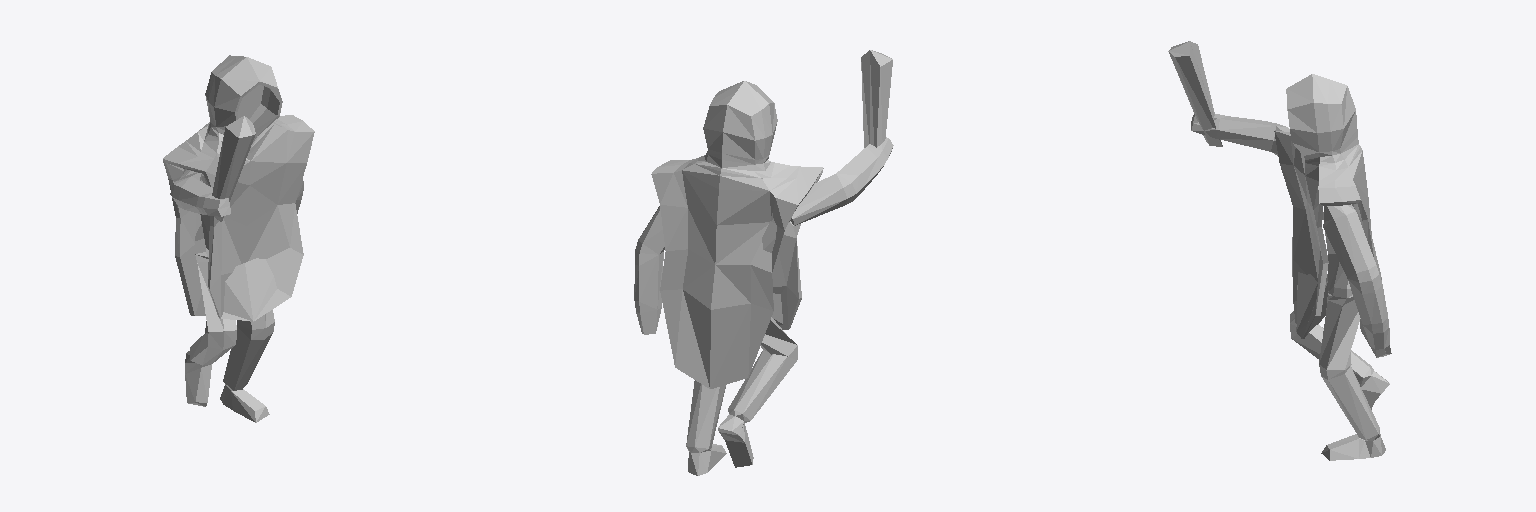
Rendered from Dude_Walk4.obj.
3 views of the same model, side by side, from view 1: azimuth 30°, elevation 25°; view 2: azimuth 150°, elevation 25°; view 3: azimuth 270°, elevation 25° (orthographic).
Parts seen in each view (by area): view 1: Dude.HOOD_Cube.001, Dude.BOD_Cube, Cube_Cube.002; view 2: Dude.HOOD_Cube.001, Dude.BOD_Cube, Cube_Cube.002; view 3: Dude.BOD_Cube, Dude.HOOD_Cube.001, Cube_Cube.002.
Part boxes in pixels (x1,y1,x2,y2): Dude.HOOD_Cube.001: (163,55,314,321); Dude.BOD_Cube: (170,169,303,422); Cube_Cube.002: (212,116,255,221); Dude.HOOD_Cube.001: (651,81,823,388); Dude.BOD_Cube: (634,137,893,475); Cube_Cube.002: (861,50,892,147); Dude.BOD_Cube: (1191,114,1389,460); Dude.HOOD_Cube.001: (1274,74,1391,357); Cube_Cube.002: (1168,41,1222,146).
Bounding box in the file's own units: 2.76 × 5.64 × 3.04.